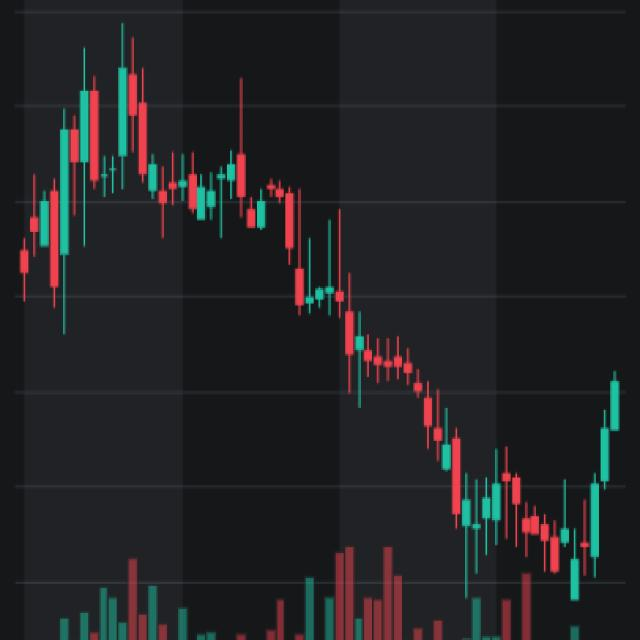Support-breakout: (24, 61, 458, 532)
